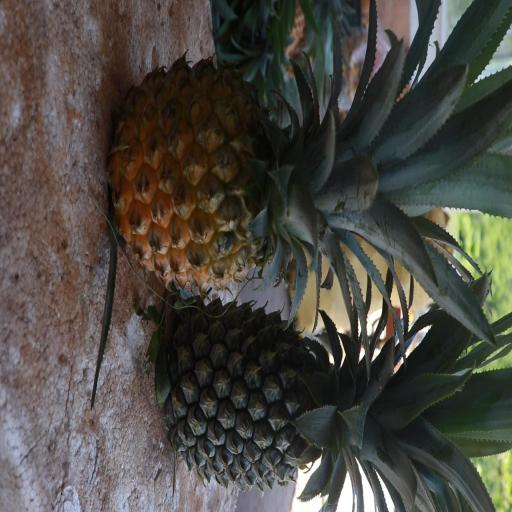Pineapple - v8 v1: (118, 58, 431, 294)
